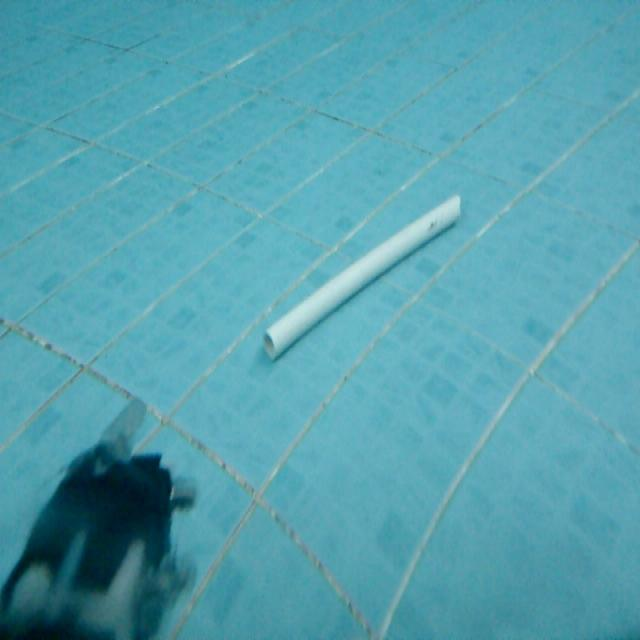Cube: (258, 188, 463, 363)
